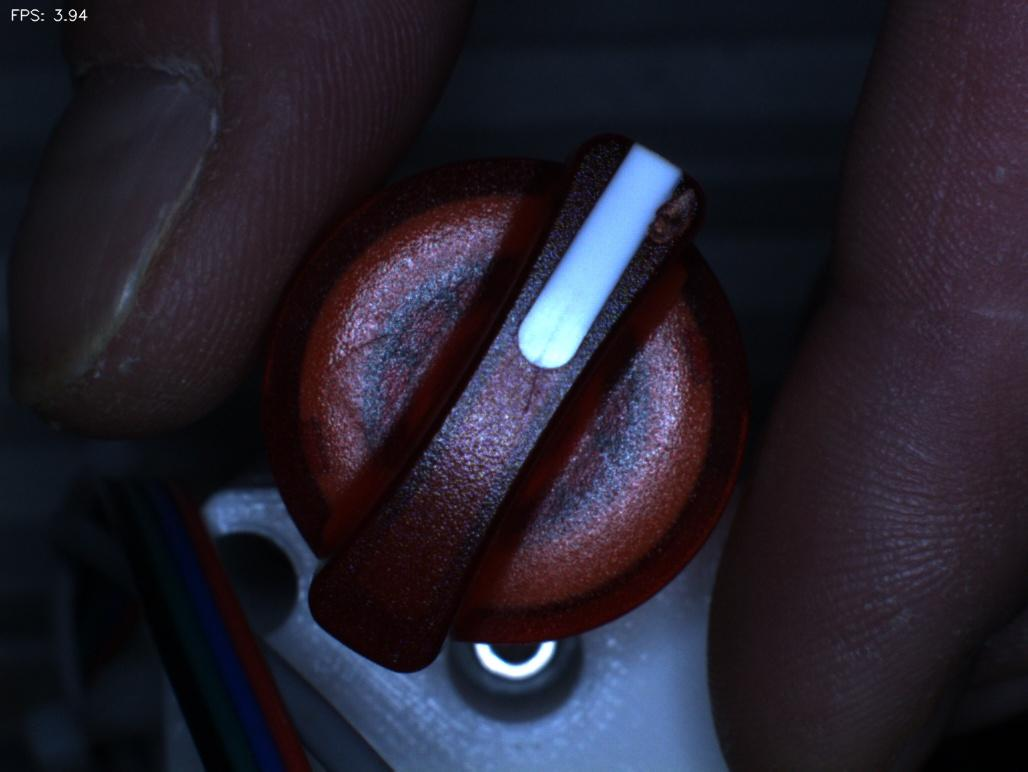Choc: (636, 166, 716, 261)
